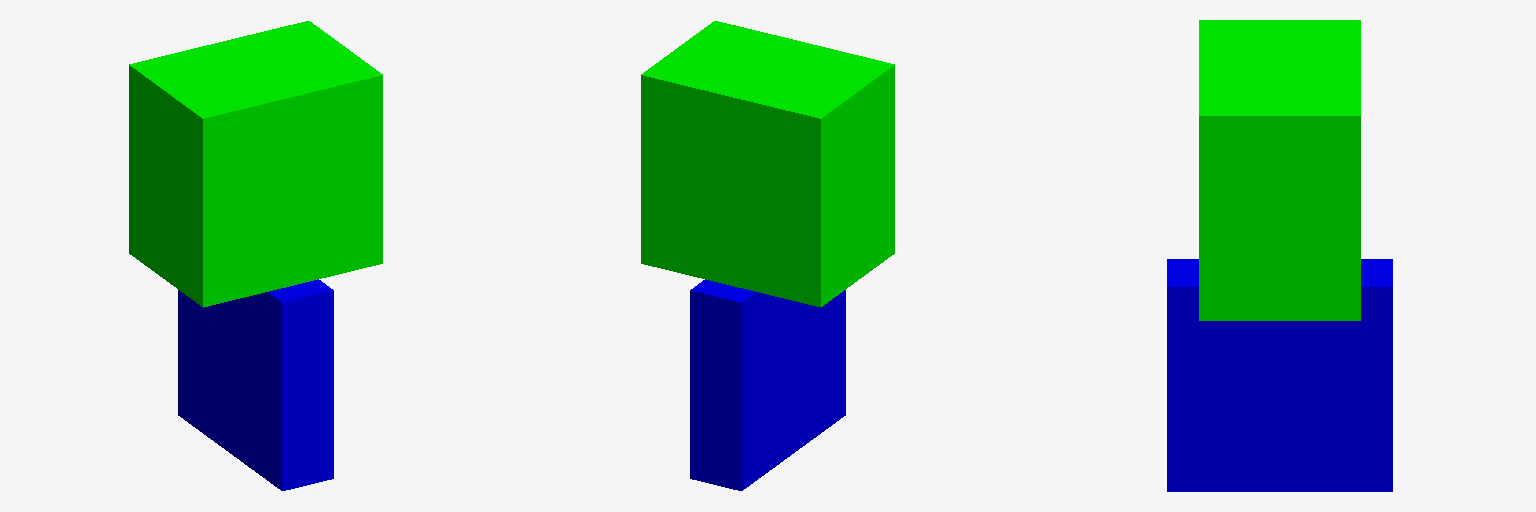
URDF robot description (robot):
<robot name = "robot">
    <link name="root">
        <inertial>
            <origin xyz="0.0 0.0 1.5" rpy="0 0 0"/>
            <mass value="1" />
            <inertia ixx="100" ixy="0" ixz="0" iyy="100" iyz="0" izz="100" />
        </inertial>
        <visual>
            <origin xyz="0.0 0.0 1.5" rpy="0 0 0"/>
            <geometry>
                <box size="0 0 0.0001" />
            </geometry>
            <material name="Green">
                <color rgba="0 1.0 0.0 1.0"/>
            </material>
        </visual>
        <collision>
            <origin xyz="0.0 0.0 1.5" rpy="0 0 0"/>
            <geometry>
                <box size="0 0 0.0001" />
            </geometry>
        </collision>
    </link>
    <joint name="root_000" type="revolute">
       <parent link="root"/>
       <child  link="000"/>
       <origin rpy="0 0 0" xyz="0.0 0.0 1.5" />
     <axis xyz="1 0 0"/>
       <limit effort="0.0" lower="-3.14159" upper="3.14159" velocity="0.0"/>
    </joint>
    <link name="000">
        <inertial>
            <origin xyz="0.35 0.0 0.0" rpy="0 0 0"/>
            <mass value="1" />
            <inertia ixx="100" ixy="0" ixz="0" iyy="100" iyz="0" izz="100" />
        </inertial>
        <visual>
            <origin xyz="0.35 0.0 0.0" rpy="0 0 0"/>
            <geometry>
                <box size="0.7 0.5 0.7" />
            </geometry>
            <material name="Green">
                <color rgba="0 1.0 0.0 1.0"/>
            </material>
        </visual>
        <collision>
            <origin xyz="0.35 0.0 0.0" rpy="0 0 0"/>
            <geometry>
                <box size="0.7 0.5 0.7" />
            </geometry>
        </collision>
    </link>
    <joint name="000_000-100" type="revolute">
       <parent link="000"/>
       <child  link="000-100"/>
       <origin rpy="0 0 0" xyz="0.35 0.0 -0.35" />
     <axis xyz="0 0 1"/>
       <limit effort="0.0" lower="-3.14159" upper="3.14159" velocity="0.0"/>
    </joint>
    <link name="000-100">
        <inertial>
            <origin xyz="0.0 0.0 -0.35" rpy="0 0 0"/>
            <mass value="1" />
            <inertia ixx="100" ixy="0" ixz="0" iyy="100" iyz="0" izz="100" />
        </inertial>
        <visual>
            <origin xyz="0.0 0.0 -0.35" rpy="0 0 0"/>
            <geometry>
                <box size="0.2 0.7 0.7" />
            </geometry>
            <material name="Blue">
                <color rgba="0 0.0 1.0 1.0"/>
            </material>
        </visual>
        <collision>
            <origin xyz="0.0 0.0 -0.35" rpy="0 0 0"/>
            <geometry>
                <box size="0.2 0.7 0.7" />
            </geometry>
        </collision>
    </link>
</robot>

--- Facts derived from the render (not from the file) ---
3 views of the same robot in one strip: view 1: azimuth 30°, elevation 25°; view 2: azimuth 150°, elevation 25°; view 3: azimuth 270°, elevation 25° (orthographic).
Model robot with 3 links and 2 joints (2 revolute), rooted at root, posed all joints at 0.
Links seen in each view (by area): view 1: 000, 000-100; view 2: 000, 000-100; view 3: 000, 000-100.
Boxes of the visible links, x1,y1,x2,y2 form: 000: (129,21,382,307); 000-100: (178,279,333,490); 000: (641,21,894,307); 000-100: (690,279,845,490); 000: (1199,20,1360,320); 000-100: (1167,259,1392,491).
Bounding box of the posed robot: 0.7 × 0.7 × 1.4 m (x, y, z).
Geometry: primitives only (box / cylinder / sphere), no mesh files.